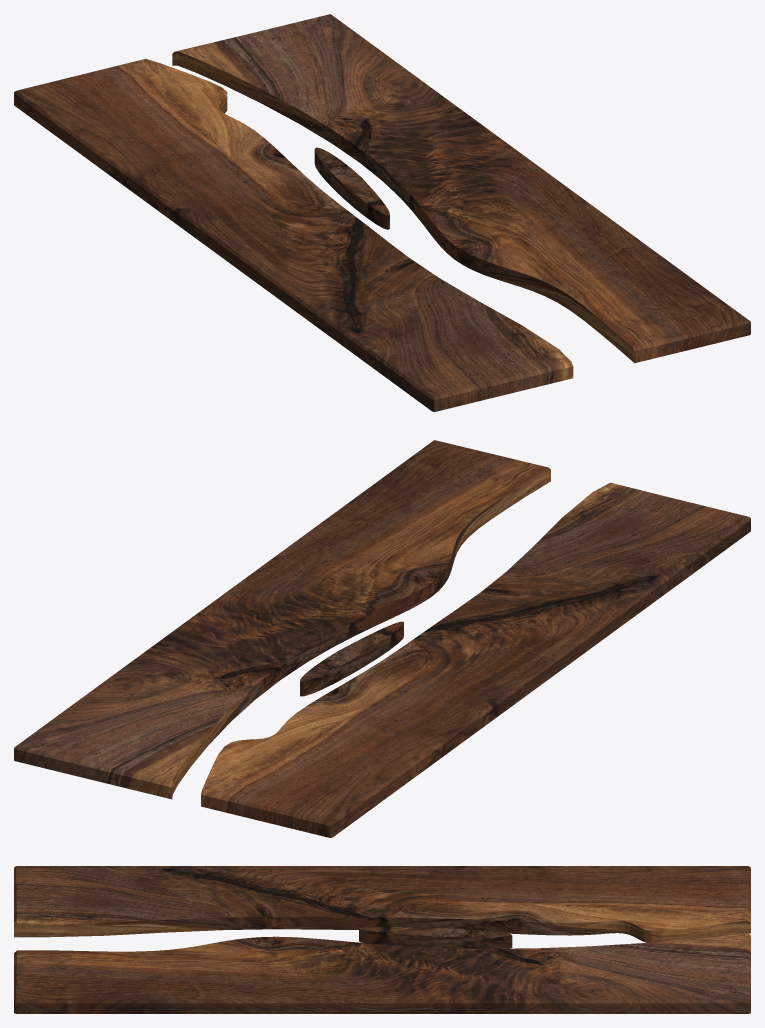
Rendered from tabletop-wood-chamfered-source.glb.
3 views of the same model, one above another, from view 1: azimuth 30°, elevation 25°; view 2: azimuth 150°, elevation 25°; view 3: azimuth 270°, elevation 25° (orthographic). The views are drawn at different scales.
Parts seen in each view (by area): view 1: tabletop_wood_chamfered_source; view 2: tabletop_wood_chamfered_source; view 3: tabletop_wood_chamfered_source.
Part boxes in pixels (left/top/right/bottom): tabletop_wood_chamfered_source: left=14, top=14, right=750, bottom=411; tabletop_wood_chamfered_source: left=14, top=440, right=750, bottom=837; tabletop_wood_chamfered_source: left=14, top=866, right=750, bottom=1013.
Size of the model in its own units: 1.07 by 0.0508 by 2.44.
Materials: 1 (1 with a texture image).
